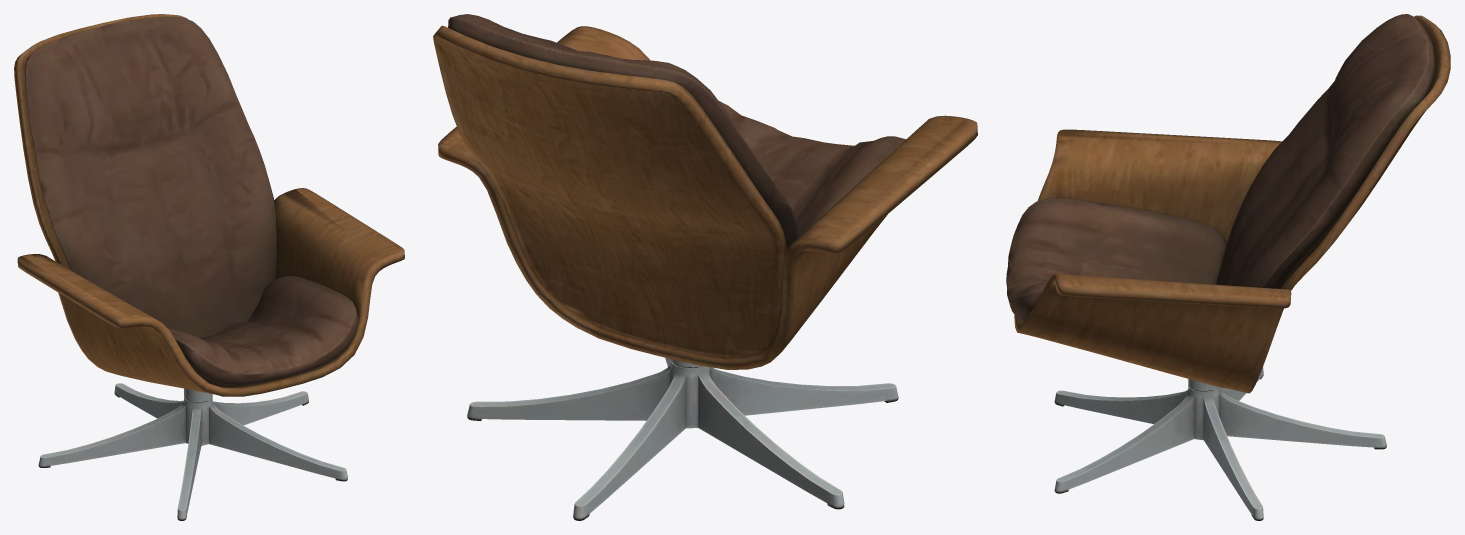
Rendered from mid_century_lounge_chair.glb.
3 views of the same model, side by side, from view 1: azimuth 30°, elevation 25°; view 2: azimuth 150°, elevation 25°; view 3: azimuth 270°, elevation 25° (orthographic). The views are drawn at different scales.
Visible parts, largest first — view 1: mid_century_lounge_chair; view 2: mid_century_lounge_chair; view 3: mid_century_lounge_chair.
Boxes of the visible parts, box(x1,y1,x2,y2) form: mid_century_lounge_chair: box(14, 14, 404, 520); mid_century_lounge_chair: box(433, 14, 977, 520); mid_century_lounge_chair: box(1006, 14, 1450, 520).
Bounding box in the file's own units: 1.01 × 1.17 × 1.19.
3 materials, 3 textured.
